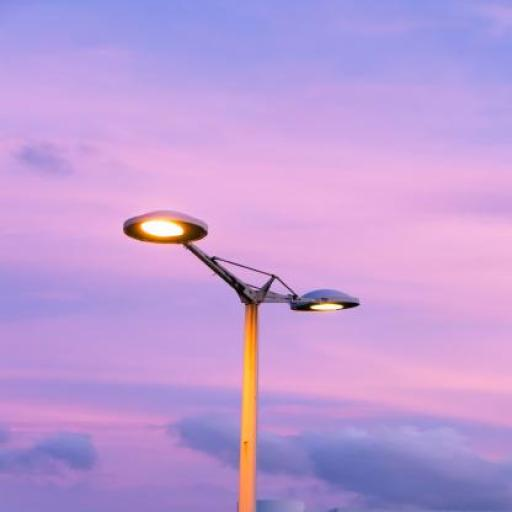street light: (123, 210, 359, 512)
